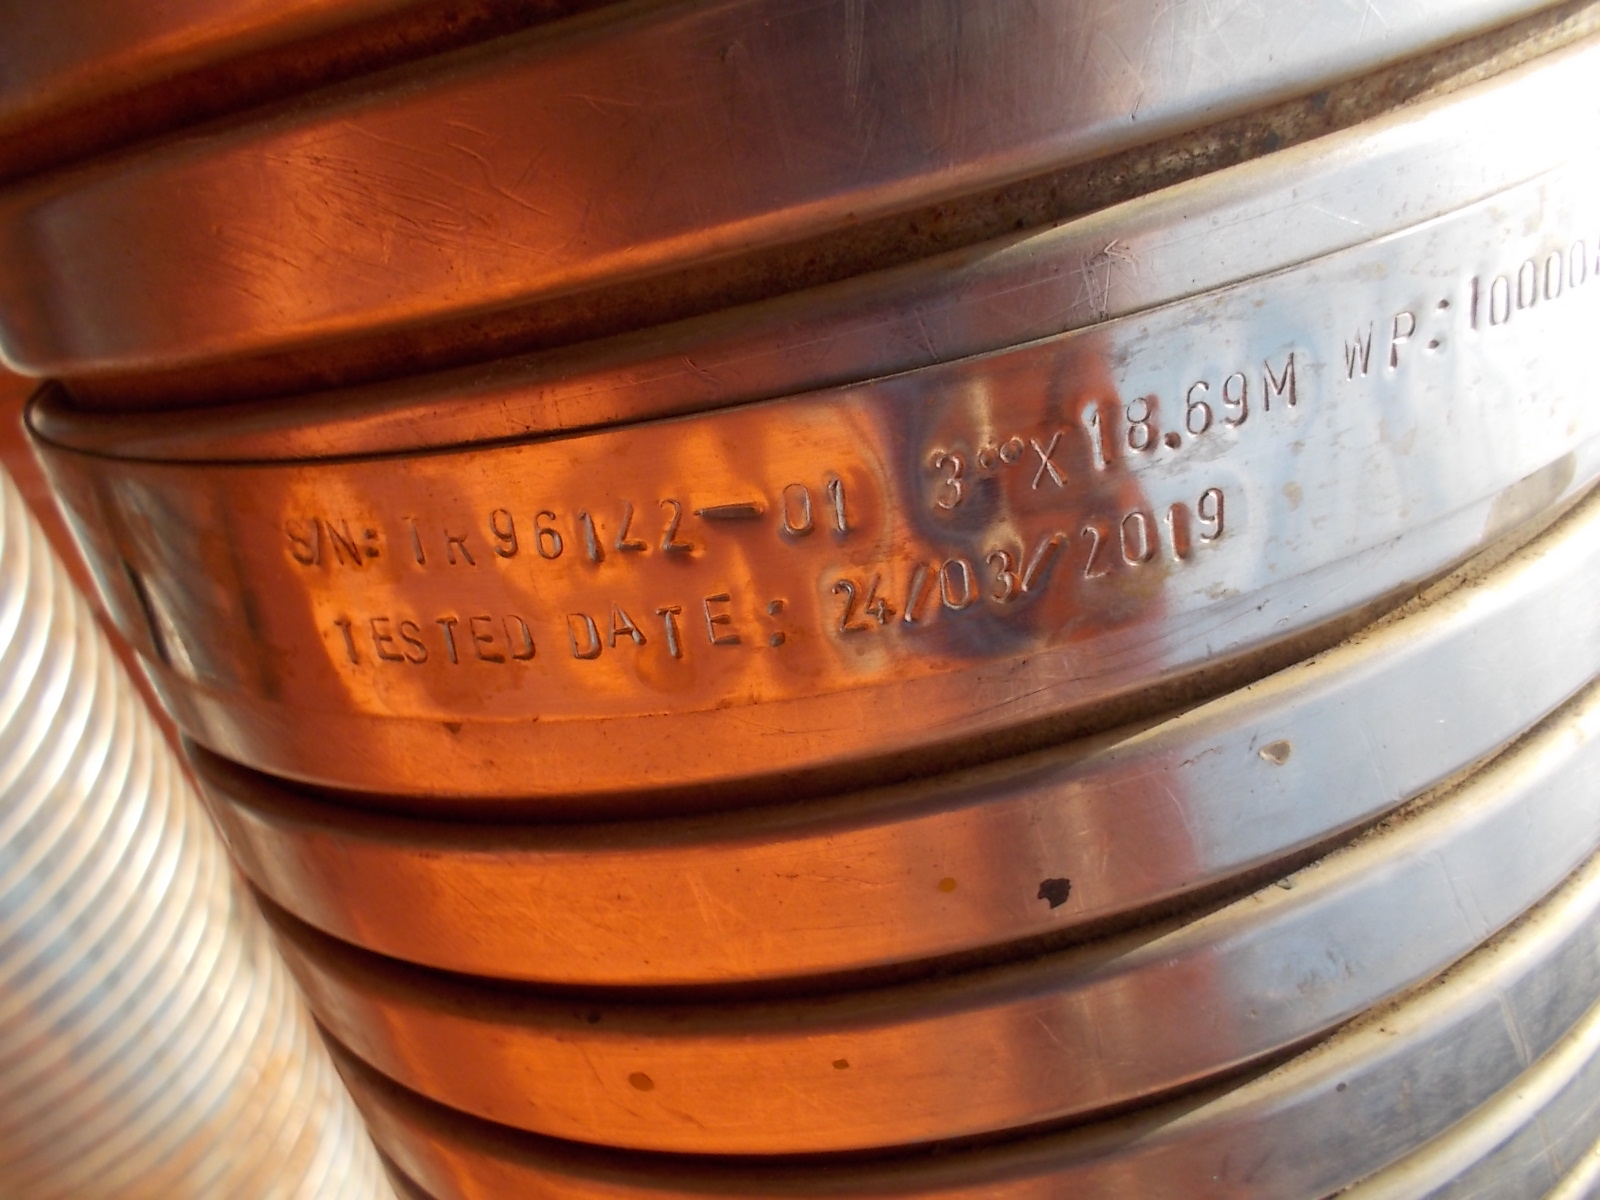character: (1015, 523, 1065, 609), (1067, 517, 1117, 592), (821, 568, 871, 643), (598, 492, 653, 558), (1254, 345, 1305, 413), (931, 547, 980, 618), (1022, 429, 1075, 494), (1329, 313, 1380, 379), (1072, 395, 1114, 473), (1116, 502, 1157, 581), (655, 492, 699, 563), (1380, 299, 1417, 379), (698, 585, 745, 649), (898, 552, 931, 643), (1218, 355, 1254, 439), (815, 476, 860, 541), (1191, 482, 1236, 546), (557, 606, 605, 667), (1115, 384, 1157, 454), (923, 447, 968, 512), (653, 601, 695, 667), (1180, 373, 1220, 444), (483, 505, 527, 567), (771, 482, 814, 543), (325, 508, 364, 574), (433, 511, 477, 568), (690, 499, 772, 529), (978, 543, 1015, 609), (860, 560, 894, 632), (1154, 500, 1193, 562), (464, 608, 505, 666), (1424, 291, 1460, 354), (605, 600, 648, 653), (280, 511, 316, 572), (530, 500, 566, 563), (970, 432, 1027, 471), (329, 611, 365, 672), (761, 585, 792, 652), (498, 613, 537, 664), (1485, 263, 1512, 339), (398, 511, 431, 568), (368, 611, 404, 663), (396, 618, 433, 667), (432, 613, 465, 667), (1516, 248, 1541, 316), (1541, 245, 1567, 309), (1461, 268, 1485, 339), (578, 505, 603, 565), (1569, 237, 1590, 291), (362, 524, 387, 563), (1159, 422, 1186, 453), (316, 507, 324, 576)
